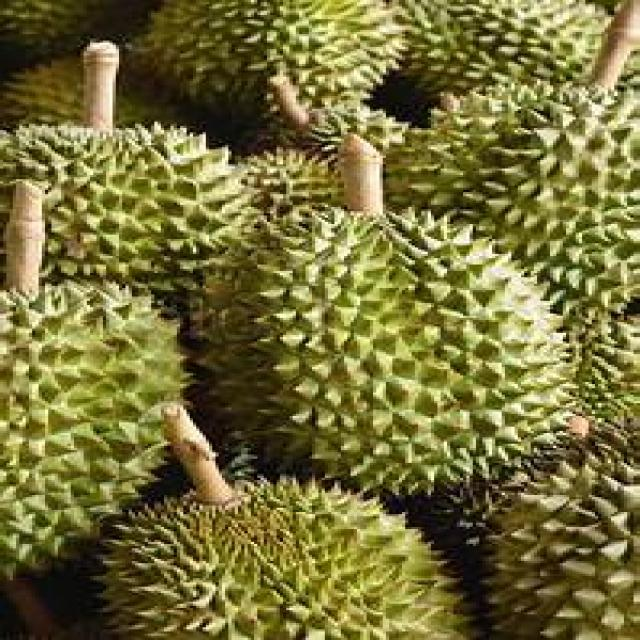immature: (190, 200, 578, 497)
